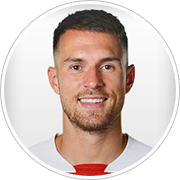face: (46, 44, 137, 126)
